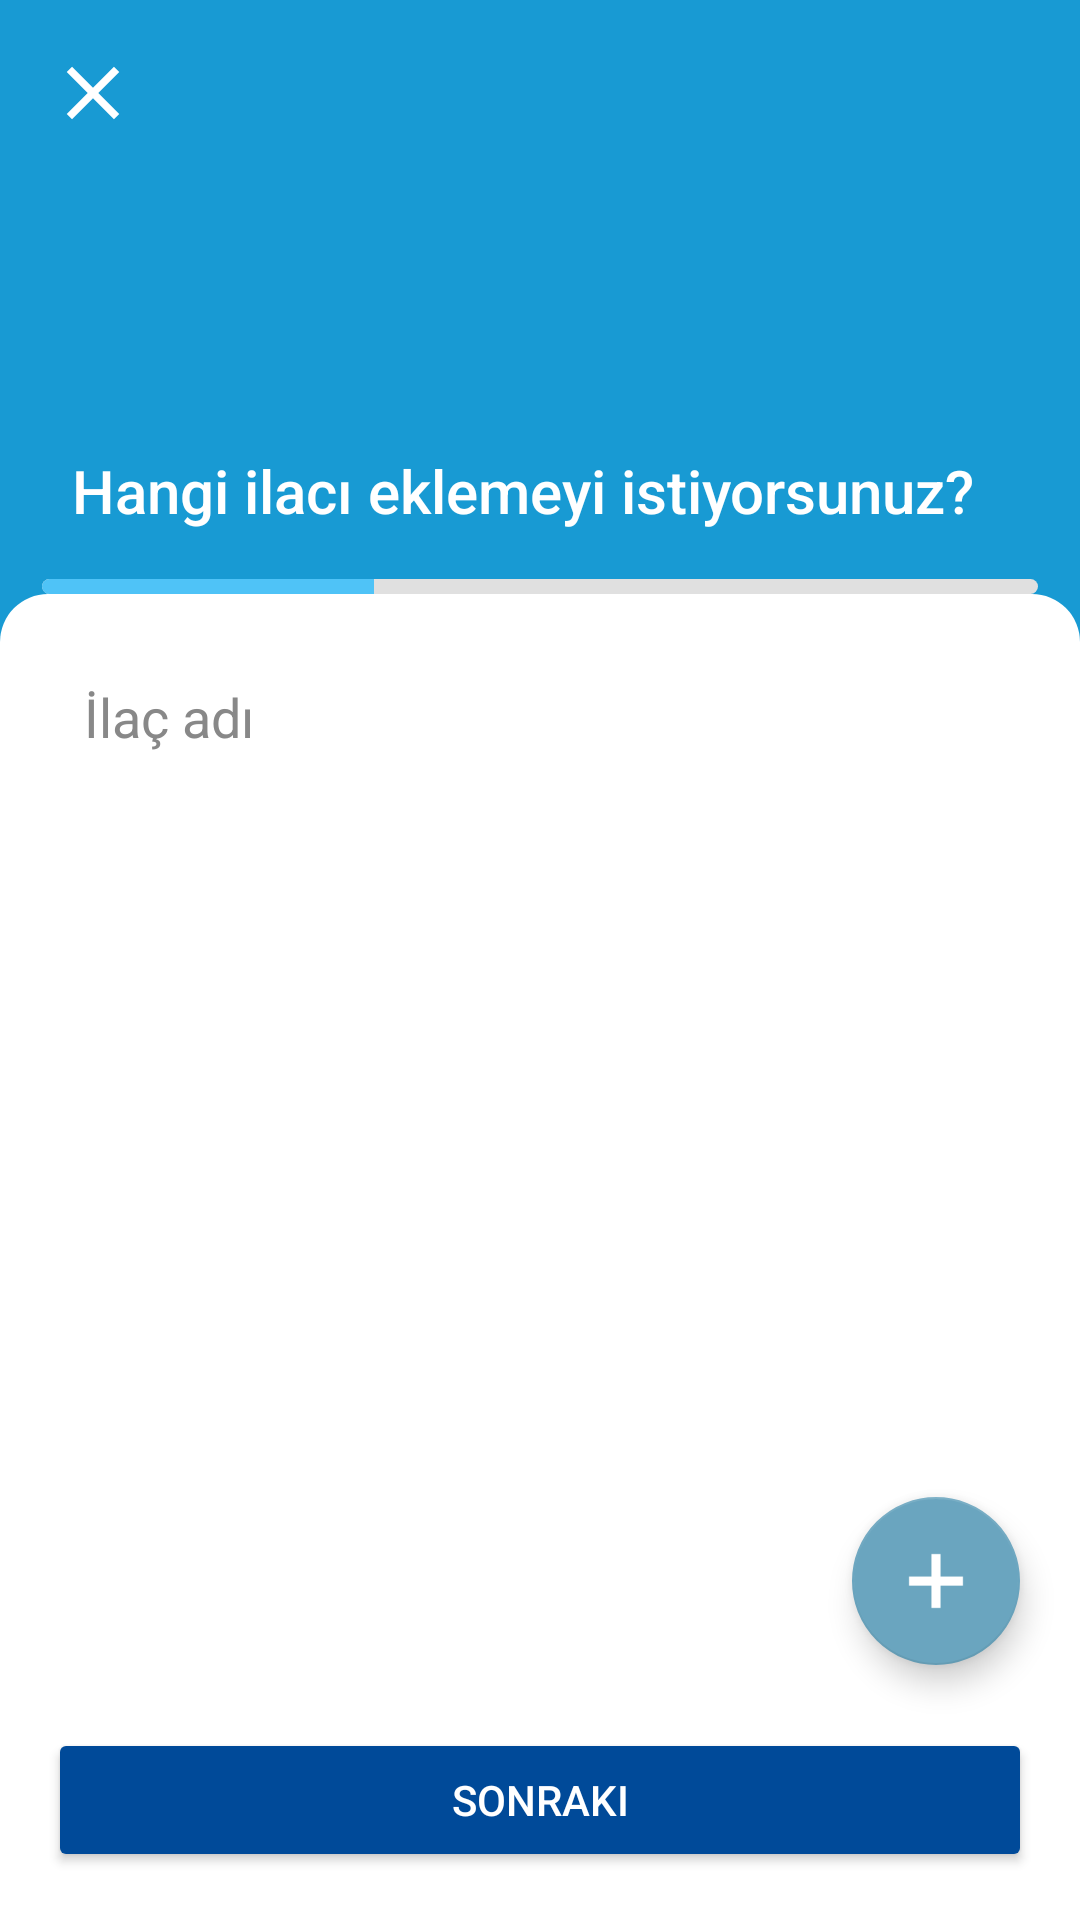

Point at icon controls on the screen. Image size 1080×1920, points as (x,y).
close: (93,93)
Zaman Ekle: (936,1581)
